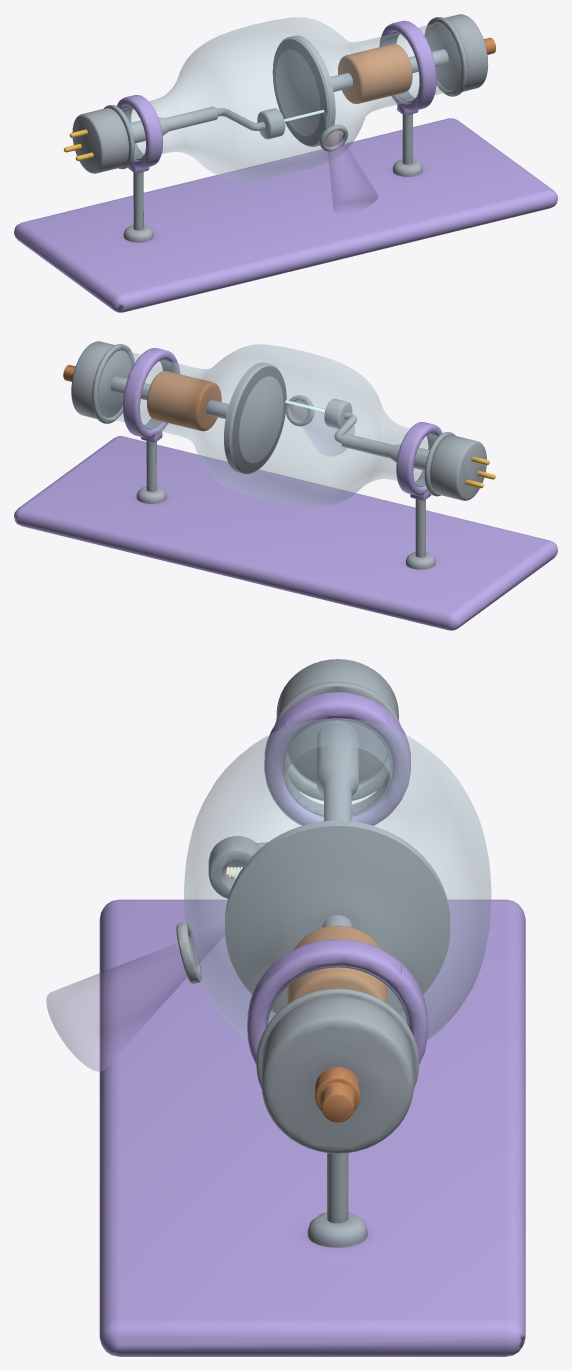
Rendered from x-ray-tube.glb.
The picture shows the model from 3 angles, top to bottom: view 1: azimuth 30°, elevation 25°; view 2: azimuth 150°, elevation 25°; view 3: azimuth 270°, elevation 25°; orthographic projection. The views are drawn at different scales.
Parts seen in each view (by area): view 1: x-ray-tube_body, x-ray-tube_envelope_glass, x-ray-tube_rotor, x-ray-tube_xray_beam_glass; view 2: x-ray-tube_body, x-ray-tube_envelope_glass, x-ray-tube_rotor, x-ray-tube_xray_beam_glass; view 3: x-ray-tube_body, x-ray-tube_envelope_glass, x-ray-tube_rotor, x-ray-tube_xray_beam_glass.
Boxes of the visible parts, x1=… form: x-ray-tube_body: x1=14, y1=14, x2=557, y2=312; x-ray-tube_envelope_glass: x1=121, y1=17, x2=461, y2=179; x-ray-tube_rotor: x1=272, y1=35, x2=412, y2=146; x-ray-tube_xray_beam_glass: x1=324, y1=112, x2=377, y2=213; x-ray-tube_body: x1=14, y1=341, x2=557, y2=630; x-ray-tube_envelope_glass: x1=98, y1=344, x2=438, y2=507; x-ray-tube_rotor: x1=147, y1=362, x2=286, y2=473; x-ray-tube_xray_beam_glass: x1=286, y1=403, x2=354, y2=455; x-ray-tube_body: x1=99, y1=659, x2=525, y2=1356; x-ray-tube_envelope_glass: x1=184, y1=718, x2=491, y2=1040; x-ray-tube_rotor: x1=225, y1=820, x2=450, y2=1013; x-ray-tube_xray_beam_glass: x1=46, y1=924, x2=224, y2=1071.
Size of the model in its own units: 0.41 by 0.1694 by 0.1912.
Materials: 6 (2 with a texture image).
